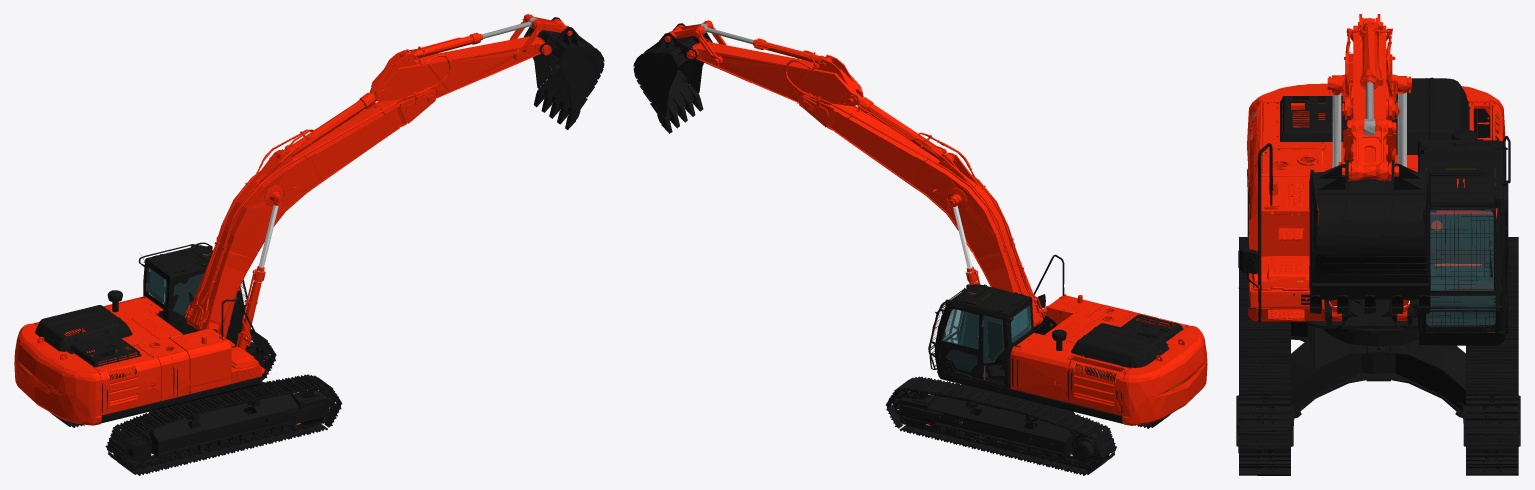
File: ExDracoOnly.glb
3 renders of one model, left to right at view 1: azimuth 30°, elevation 25°; view 2: azimuth 150°, elevation 25°; view 3: azimuth 270°, elevation 25°, orthographic. The views are drawn at different scales.
Parts seen in each view (by area): view 1: Mesh_0.001 (×3); view 2: Mesh_0.001 (×3); view 3: Mesh_0.001 (×6).
Part boxes in pixels (x1,y1,x2,y2): Mesh_0.001 (×3): [14, 14, 604, 475]; Mesh_0.001 (×3): [633, 20, 1207, 475]; Mesh_0.001 (×6): [1236, 14, 1520, 475].
Bounding box in the file's own units: 1262 × 710 × 324.
